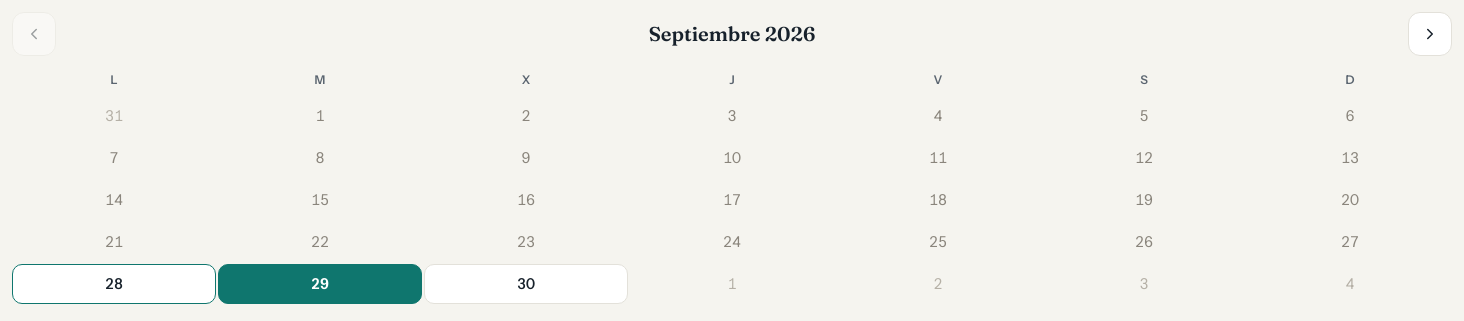
DatePicker › navega entre meses, pero no a meses anteriores al de hoy
expect the button named "Mes anterior" is disabled: met, box x1=12 y1=12 x2=56 y2=56
Click the button named "Mes siguiente": click(1430, 34) x1=1408 y1=12 x2=1452 y2=56
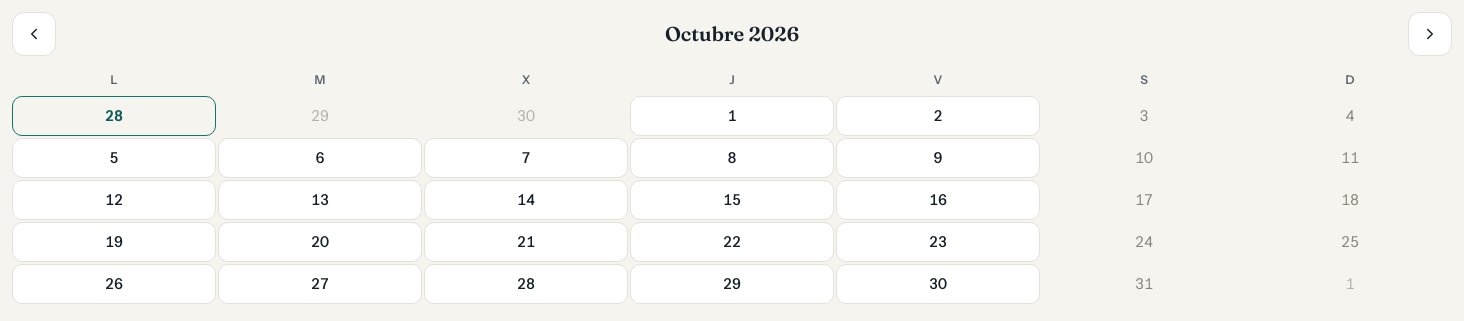
expect the button named "Mes anterior" is enabled: met, box x1=12 y1=12 x2=56 y2=56
expect the text "Octubre 2026" is shown: met, box x1=665 y1=20 x2=799 y2=48
